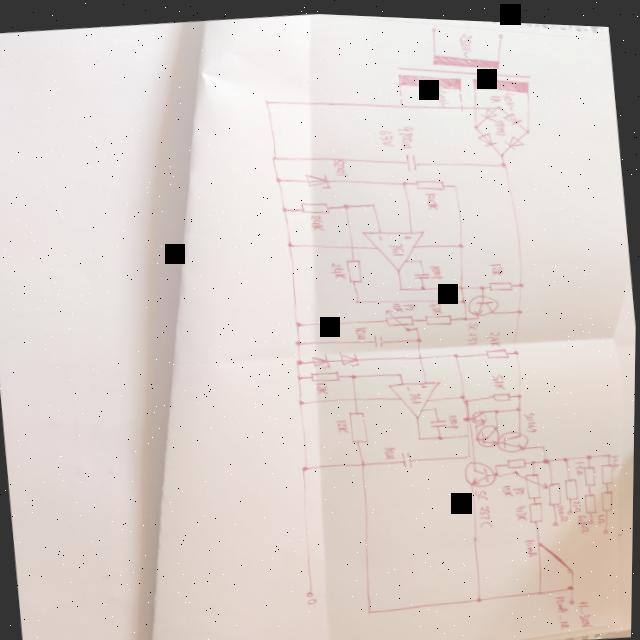capacitor: (405, 146, 421, 167), (401, 445, 416, 464), (430, 411, 451, 423), (412, 264, 434, 275), (374, 328, 387, 344)
crossover: (349, 239, 356, 246), (354, 391, 361, 398), (472, 99, 479, 105)
diode: (305, 165, 333, 186), (339, 343, 361, 363), (476, 124, 499, 143), (309, 348, 333, 366), (504, 127, 527, 144), (478, 100, 501, 117), (504, 104, 525, 121)
junction: (296, 353, 306, 362), (499, 154, 510, 162), (567, 576, 578, 584), (419, 279, 430, 286), (452, 346, 463, 353), (342, 198, 353, 205), (351, 367, 360, 375), (295, 334, 304, 342), (282, 201, 291, 209), (477, 589, 486, 597), (276, 171, 285, 179), (397, 279, 406, 287), (295, 315, 304, 323), (563, 448, 572, 456), (460, 291, 469, 299), (586, 446, 596, 453), (298, 394, 308, 401), (263, 94, 273, 101), (518, 275, 528, 282), (416, 330, 425, 337), (288, 237, 297, 244), (302, 460, 311, 467), (368, 603, 377, 610), (397, 365, 406, 372), (457, 236, 466, 243), (543, 450, 552, 457), (516, 301, 525, 308), (458, 278, 467, 285), (361, 455, 370, 462), (401, 175, 410, 182), (418, 348, 427, 355), (459, 98, 468, 105), (479, 278, 488, 285), (438, 427, 446, 434), (355, 293, 363, 300), (298, 369, 306, 376), (525, 121, 533, 128), (466, 426, 474, 433), (530, 452, 538, 459), (473, 118, 481, 125), (495, 98, 503, 105), (498, 145, 506, 152), (398, 96, 405, 104), (370, 196, 377, 203), (495, 401, 502, 408), (518, 386, 525, 392), (517, 399, 524, 405), (542, 437, 549, 443), (453, 176, 459, 183), (539, 583, 546, 589), (433, 400, 440, 406), (273, 151, 279, 157), (467, 391, 473, 397), (465, 410, 471, 416), (418, 430, 424, 435), (468, 448, 474, 453), (419, 253, 425, 258), (607, 445, 613, 450), (461, 389, 466, 394), (476, 419, 480, 422), (483, 417, 487, 419)
resistor: (513, 461, 551, 495), (347, 403, 372, 440), (385, 301, 419, 327), (300, 195, 333, 213), (344, 252, 366, 279), (416, 171, 449, 187), (424, 306, 455, 322), (546, 474, 565, 500), (310, 364, 342, 379), (564, 469, 581, 495), (489, 272, 518, 286), (601, 455, 618, 478), (529, 494, 546, 517), (584, 484, 600, 508), (486, 341, 513, 355), (601, 482, 617, 505), (583, 458, 599, 481), (492, 384, 515, 397), (506, 450, 528, 463)
source: (513, 343, 522, 350)
switch: (534, 497, 614, 571)
terminal: (307, 585, 316, 594), (496, 26, 505, 34), (430, 20, 439, 27), (569, 592, 578, 599)
text: (475, 482, 495, 523), (555, 587, 573, 623), (398, 118, 418, 145), (578, 591, 596, 621), (458, 26, 476, 53), (466, 315, 482, 341), (333, 151, 351, 174), (523, 531, 541, 553), (379, 122, 397, 143), (392, 294, 419, 308), (525, 404, 541, 427), (330, 256, 348, 276), (434, 82, 451, 103), (503, 85, 519, 106), (577, 506, 592, 528), (492, 366, 509, 385), (425, 185, 441, 205), (310, 209, 326, 227), (488, 323, 504, 341), (515, 498, 531, 515), (427, 296, 446, 310), (494, 111, 508, 130), (558, 497, 571, 517), (354, 320, 370, 336), (430, 259, 445, 276), (490, 254, 505, 270), (574, 453, 588, 470), (336, 414, 351, 429), (384, 440, 399, 455), (390, 237, 406, 251), (502, 477, 516, 492), (573, 491, 585, 508), (409, 386, 424, 399), (316, 377, 331, 390), (449, 408, 462, 423), (612, 447, 625, 462), (489, 87, 503, 98), (514, 479, 529, 489), (597, 505, 608, 518), (419, 85, 434, 94), (402, 227, 416, 236), (308, 593, 321, 601), (378, 228, 385, 239), (422, 378, 430, 384), (408, 381, 412, 385)
transformer: (395, 35, 534, 101)
transistor: (464, 453, 498, 483), (468, 285, 504, 311), (497, 423, 531, 447), (477, 417, 501, 442), (472, 404, 488, 418)
